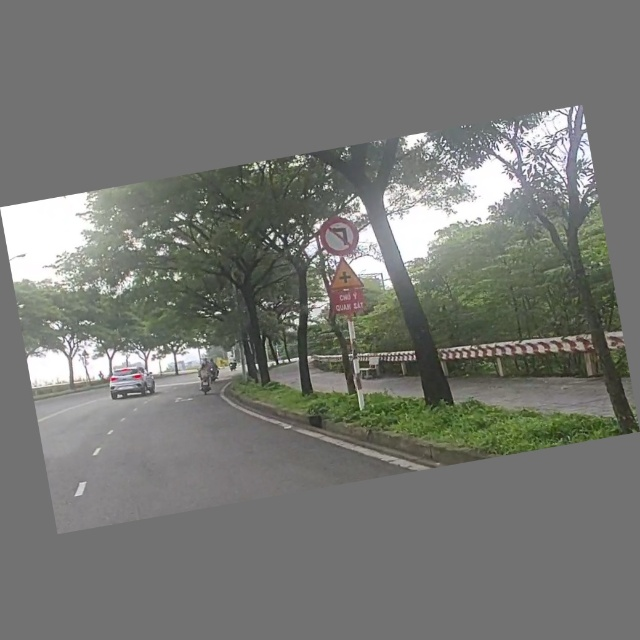P.123a: (311, 209, 372, 262)
W.205a: (322, 253, 370, 294)
